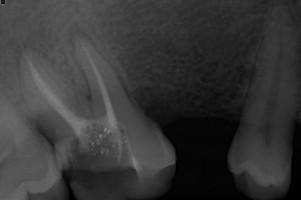Furcation Involvement: (14, 42, 33, 77), (68, 22, 92, 45)
